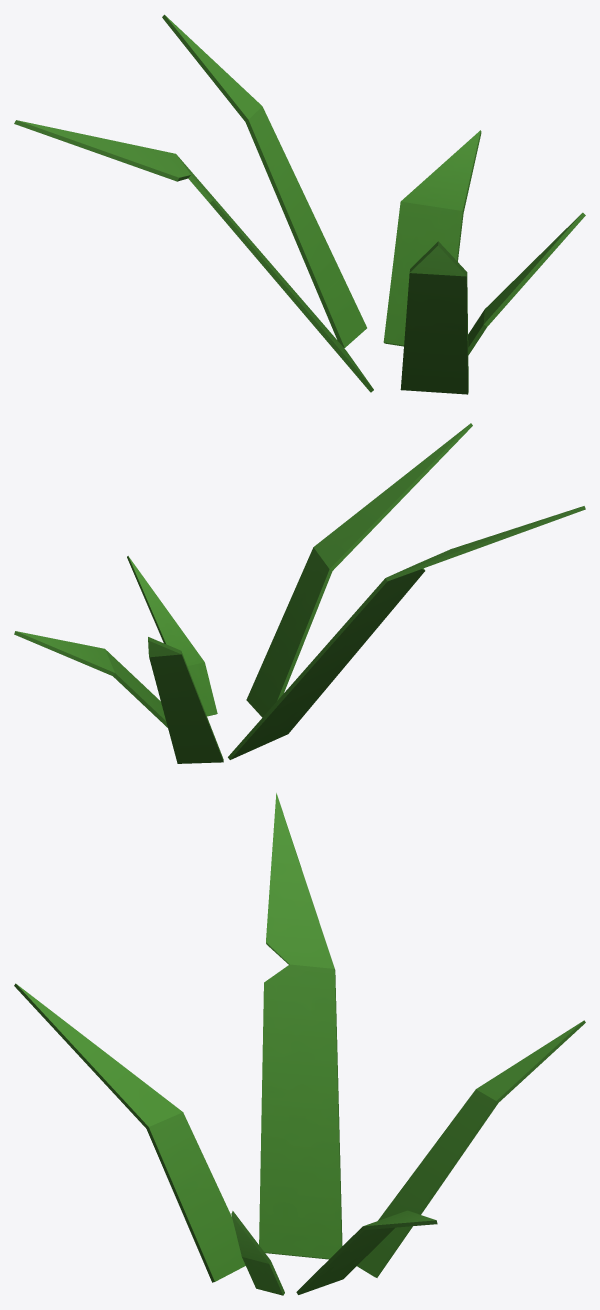
File: Grass_Patch_06_Solidified.fbx
3 views of the same model, one above another, from view 1: azimuth 30°, elevation 25°; view 2: azimuth 150°, elevation 25°; view 3: azimuth 270°, elevation 25° (orthographic). The views are drawn at different scales.
Parts seen in each view (by area): view 1: Grass_Patch_06_Solidified; view 2: Grass_Patch_06_Solidified; view 3: Grass_Patch_06_Solidified.
Boxes of the visible parts, x1,y1,x2,y2 form: Grass_Patch_06_Solidified: [14, 14, 585, 394]; Grass_Patch_06_Solidified: [14, 423, 585, 763]; Grass_Patch_06_Solidified: [14, 793, 585, 1295].
Bounding box in the file's own units: 1 × 0.6 × 1.
